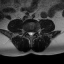CCS_normal: (30, 30, 31, 38)
LFS_stenosis: (33, 29, 36, 35)
LLS_normal: (31, 30, 33, 36)
RFS_stenosis: (26, 29, 28, 35)
RLS_normal: (28, 30, 30, 36)
